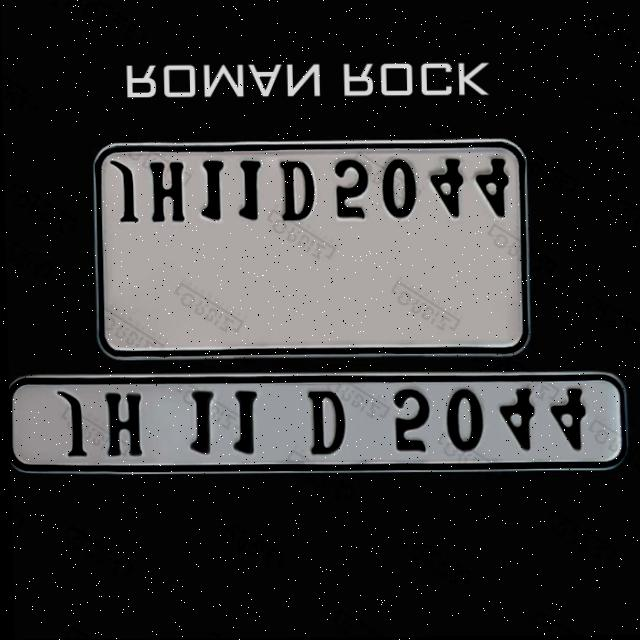plate: (86, 135, 534, 362), (6, 368, 631, 478)
